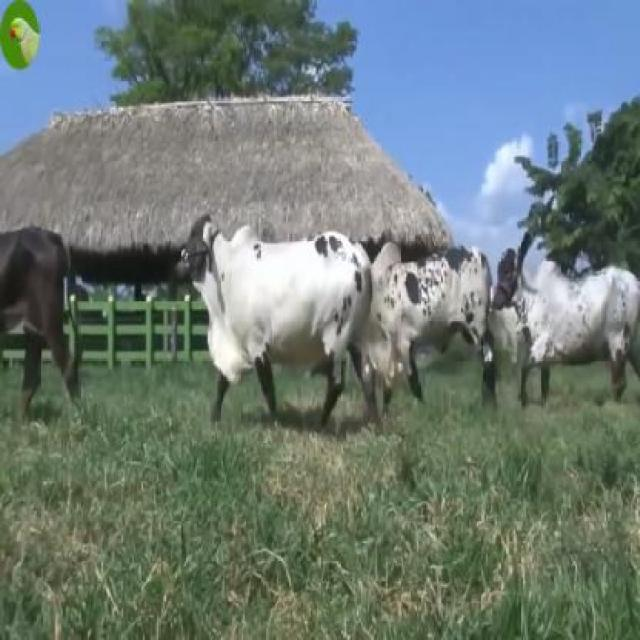Cow: (175, 209, 371, 420)
